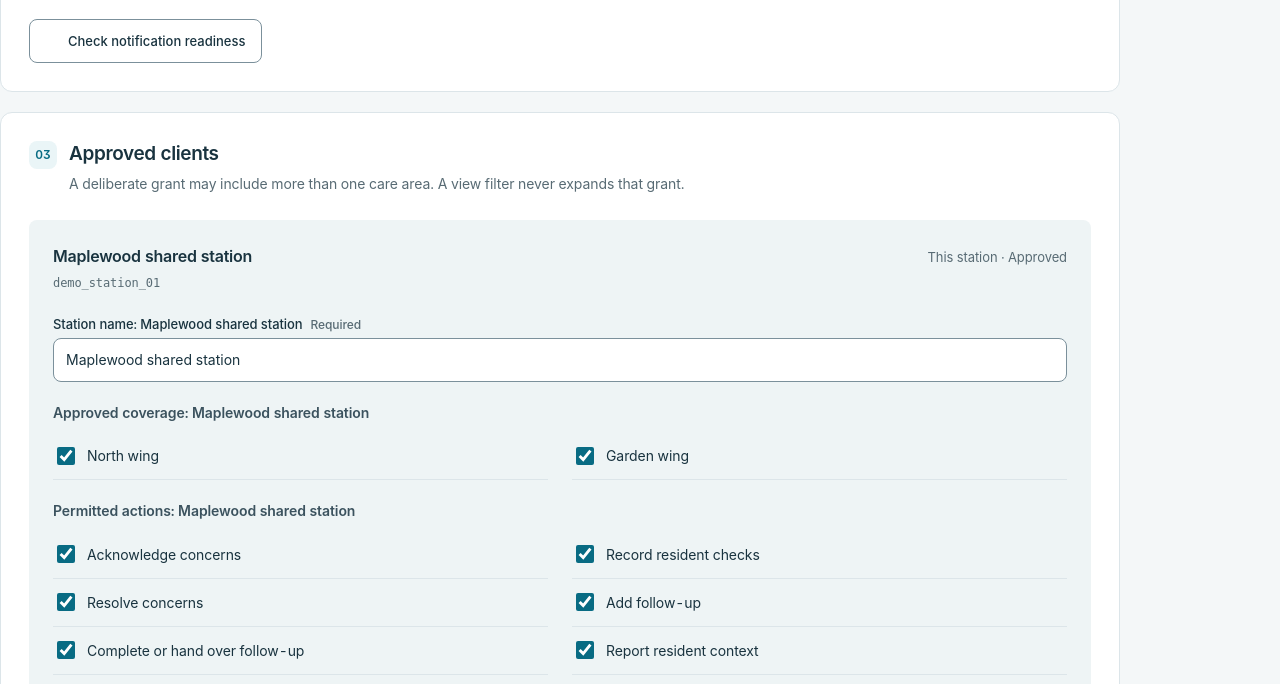
Test: workspace administration › saves station coverage and removes resident access when current approval is revoked
(page scrolled)
Step 1. Replace the text in the field with "West shared tablet" → (560, 360), box x1=53 y1=338 x2=1067 y2=382
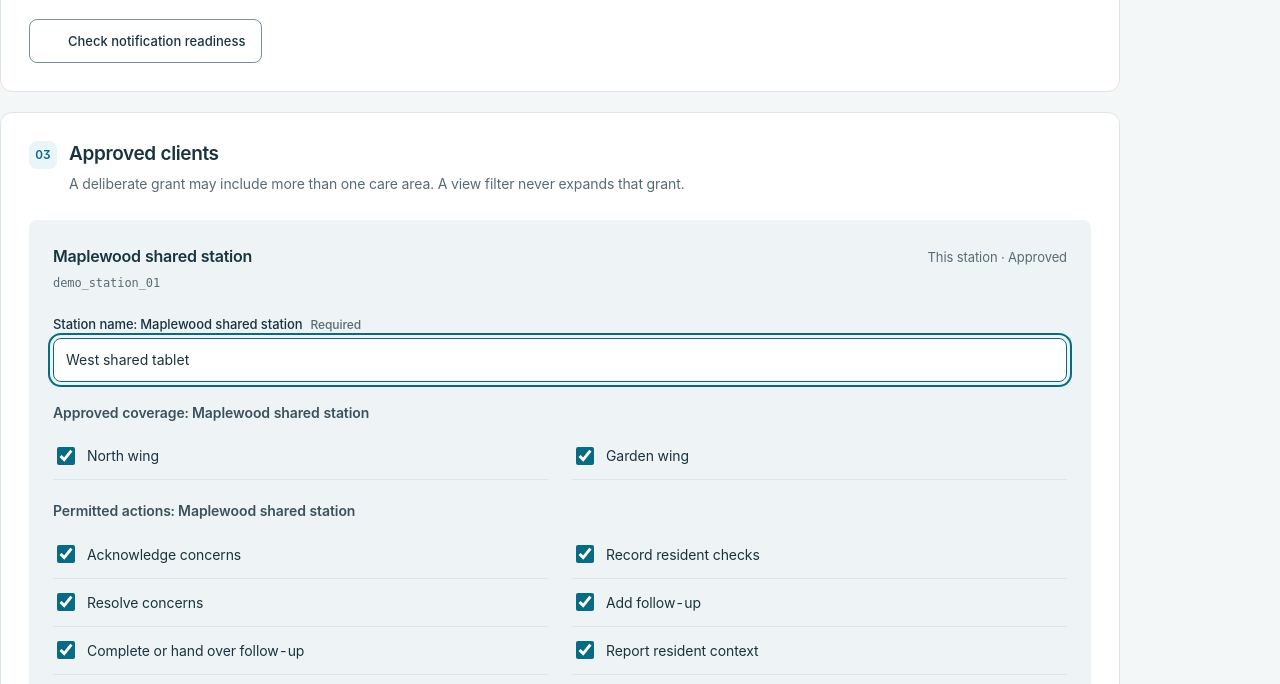
Step 2. Click the checkbox labelled "Garden wing" → (585, 456), box x1=576 y1=447 x2=594 y2=465
(page scrolled)
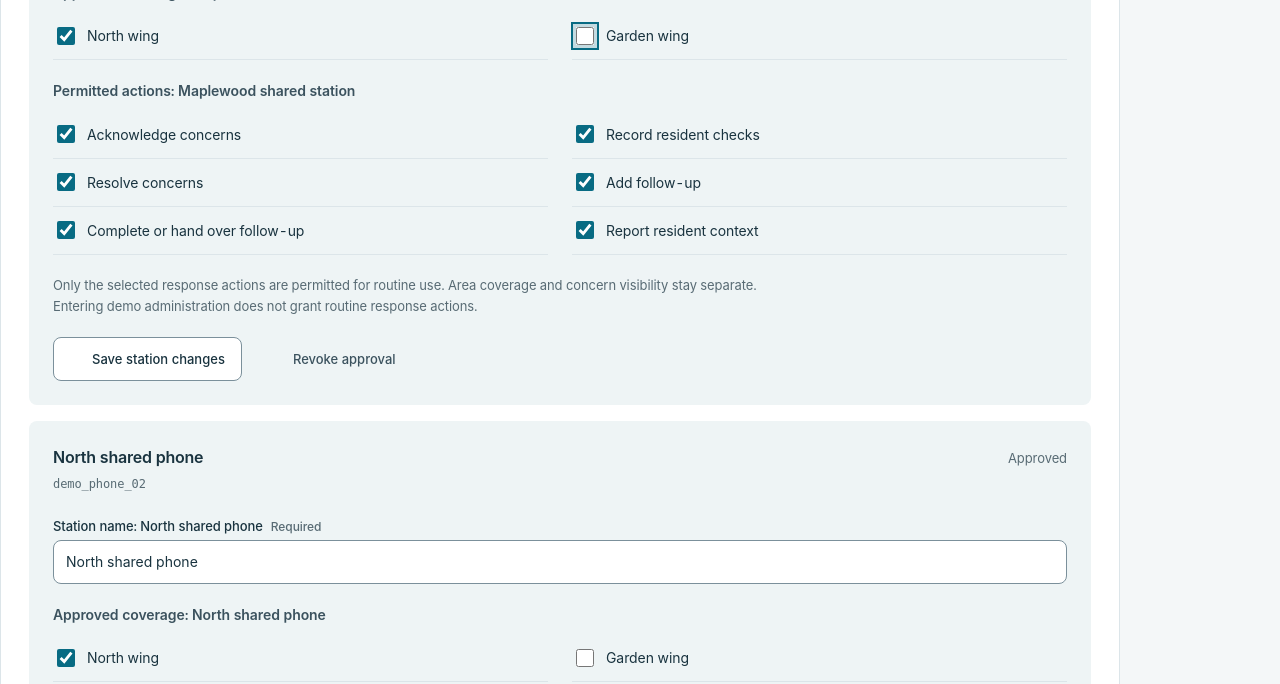
Step 3. Click the button "Save station changes" → (147, 360), box x1=53 y1=338 x2=242 y2=382
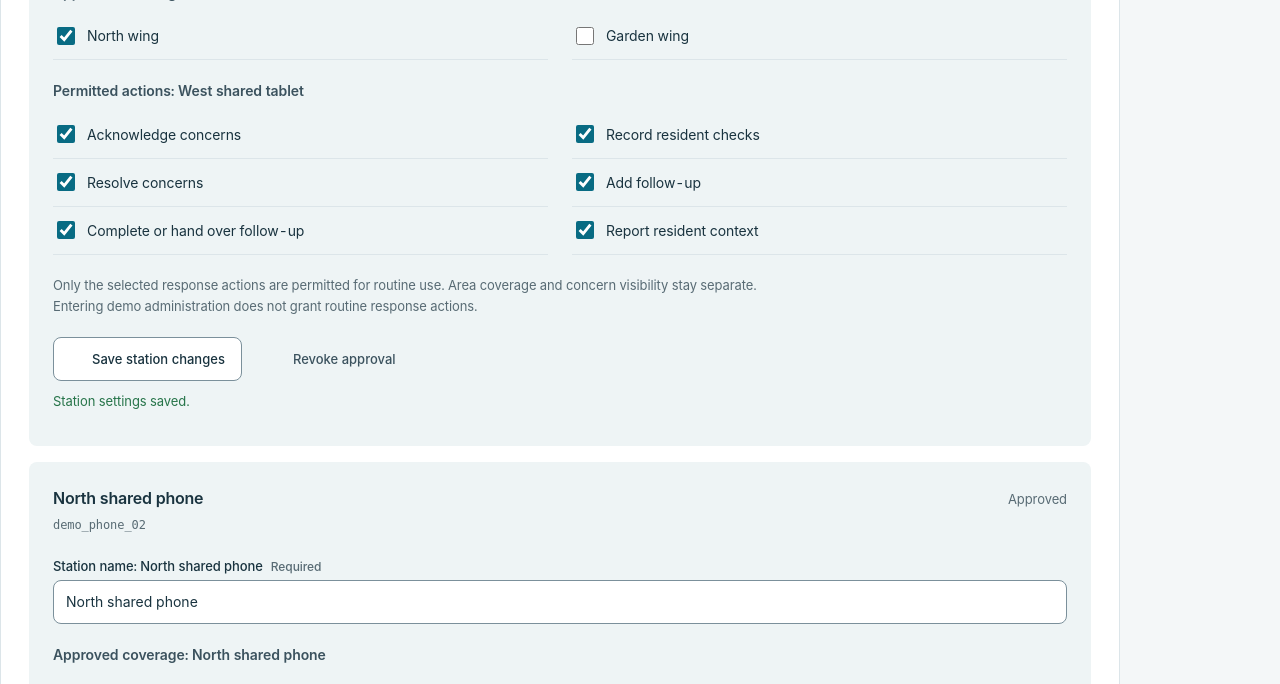
Check: the text "Station settings saved." is shown, box x1=53 y1=394 x2=190 y2=410
Step 4. Click the button "Revoke approval" → (333, 360), box x1=254 y1=338 x2=413 y2=382
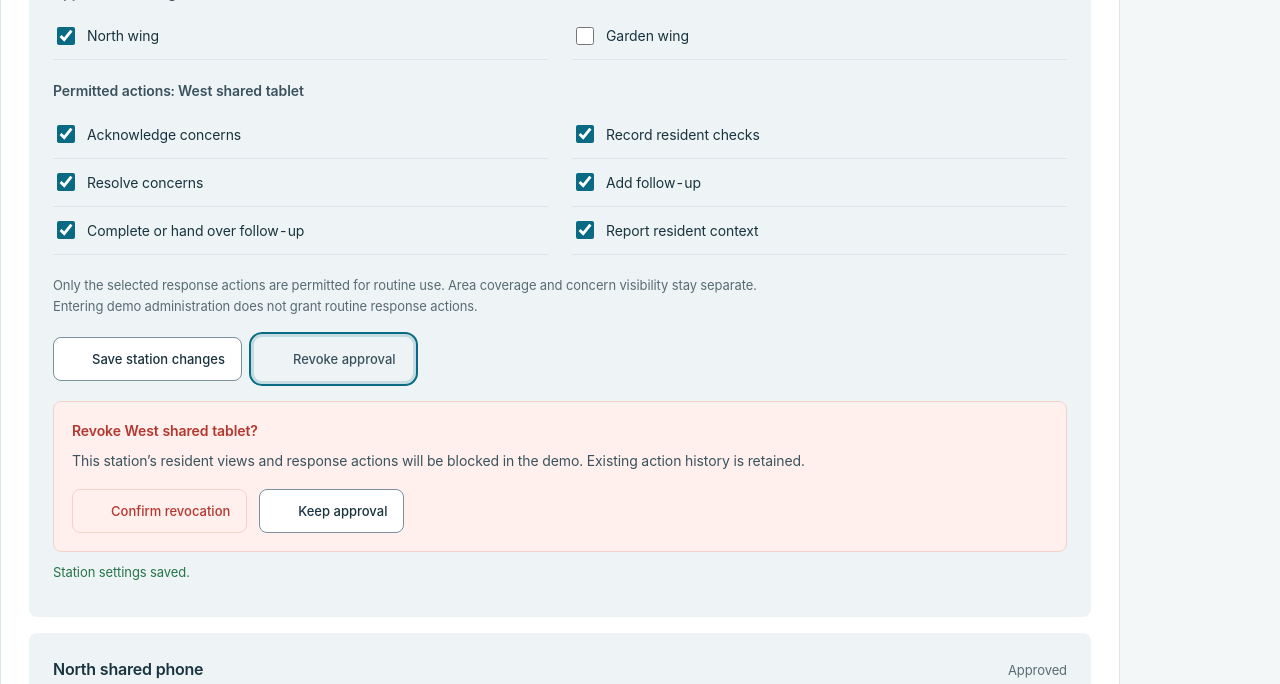
Step 5. Click the button "Confirm revocation" → (160, 511), box x1=72 y1=489 x2=247 y2=533
(page scrolled)
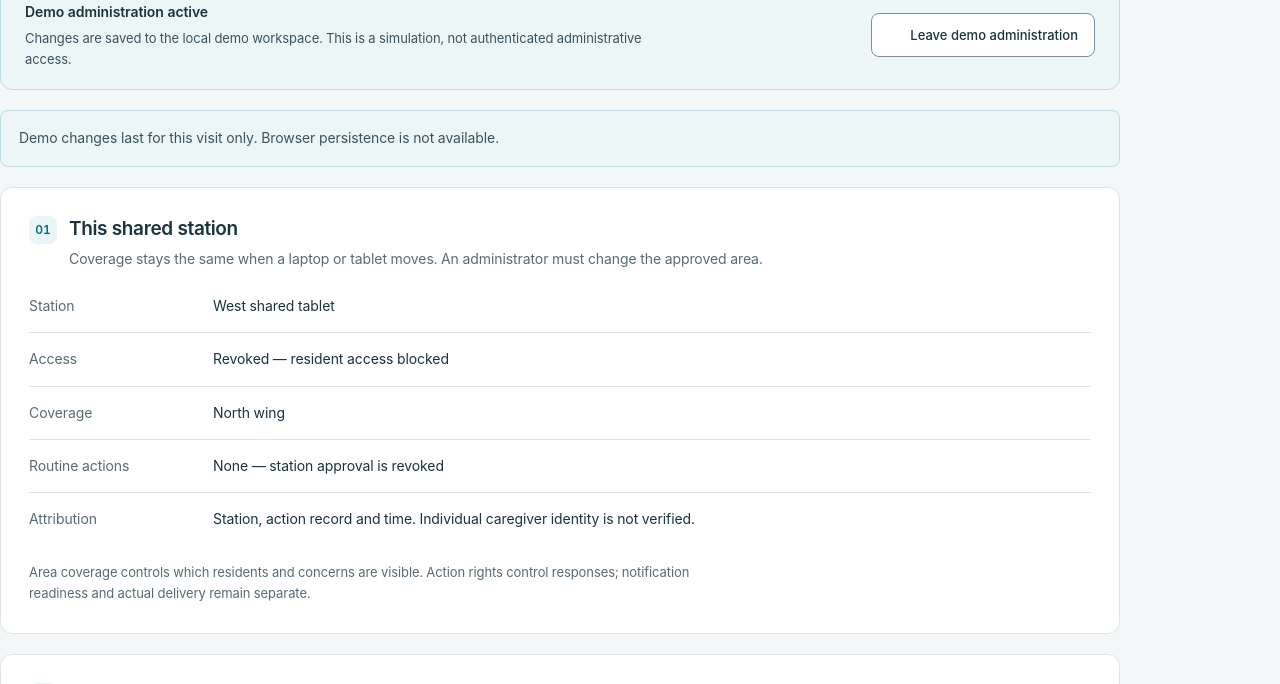
Check: the text "Revoked — resident access blocked" is shown, box x1=213 y1=350 x2=449 y2=367
